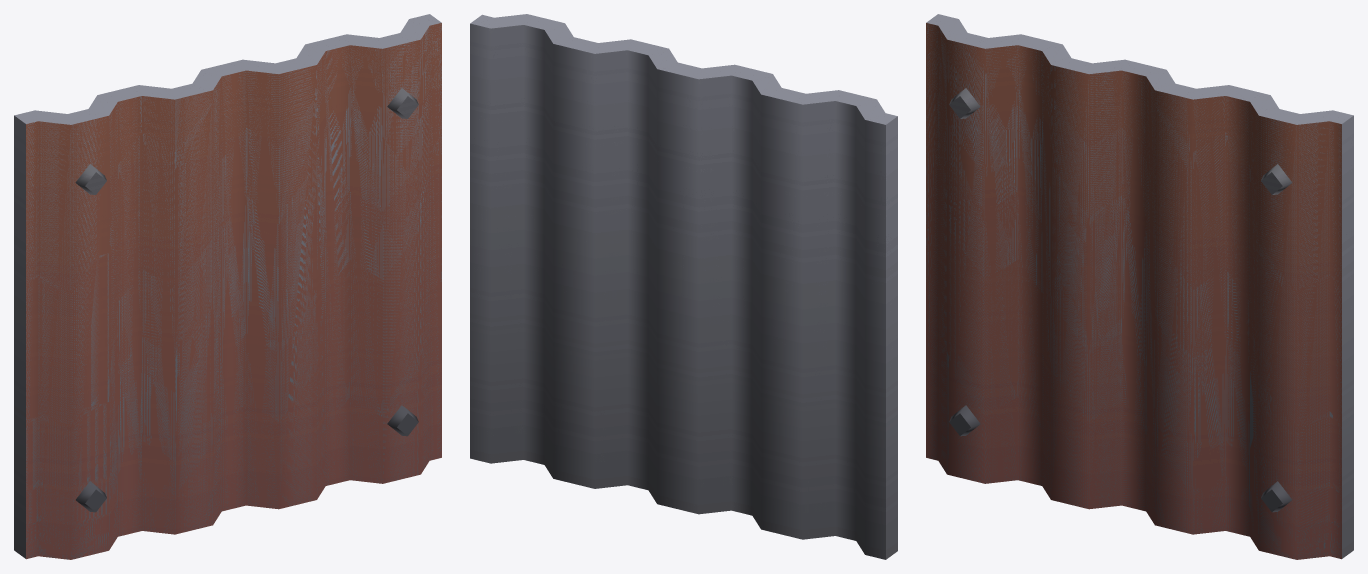
File: metal_panel.glb
3 views of the same model, side by side, from view 1: azimuth 30°, elevation 25°; view 2: azimuth 150°, elevation 25°; view 3: azimuth 330°, elevation 25° (orthographic).
Parts seen in each view (by area): view 1: metal-panel-screws; view 2: metal-panel-screws; view 3: metal-panel-screws.
Part boxes in pixels (x1,y1,x2,y2): metal-panel-screws: (14,14,441,559); metal-panel-screws: (470,14,897,559); metal-panel-screws: (926,14,1353,559).
Size of the model in its own units: 1.33 by 1.33 by 0.1656.
1 material, 1 textured.
